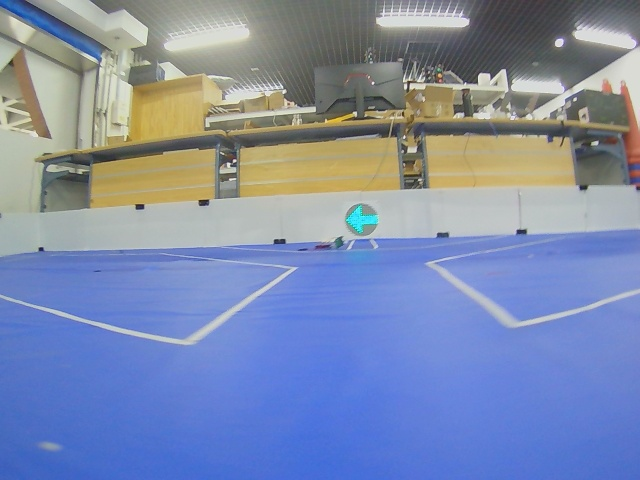left_green: (345, 203, 379, 236)
